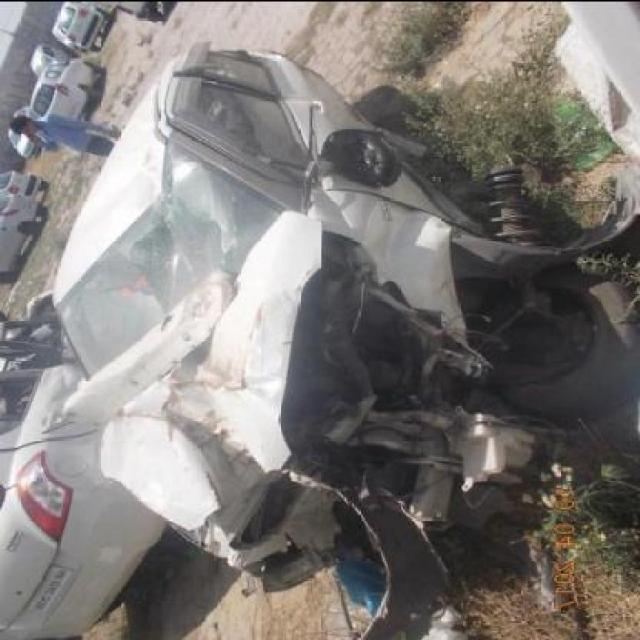damage: (64, 184, 481, 585), (56, 134, 242, 374)
